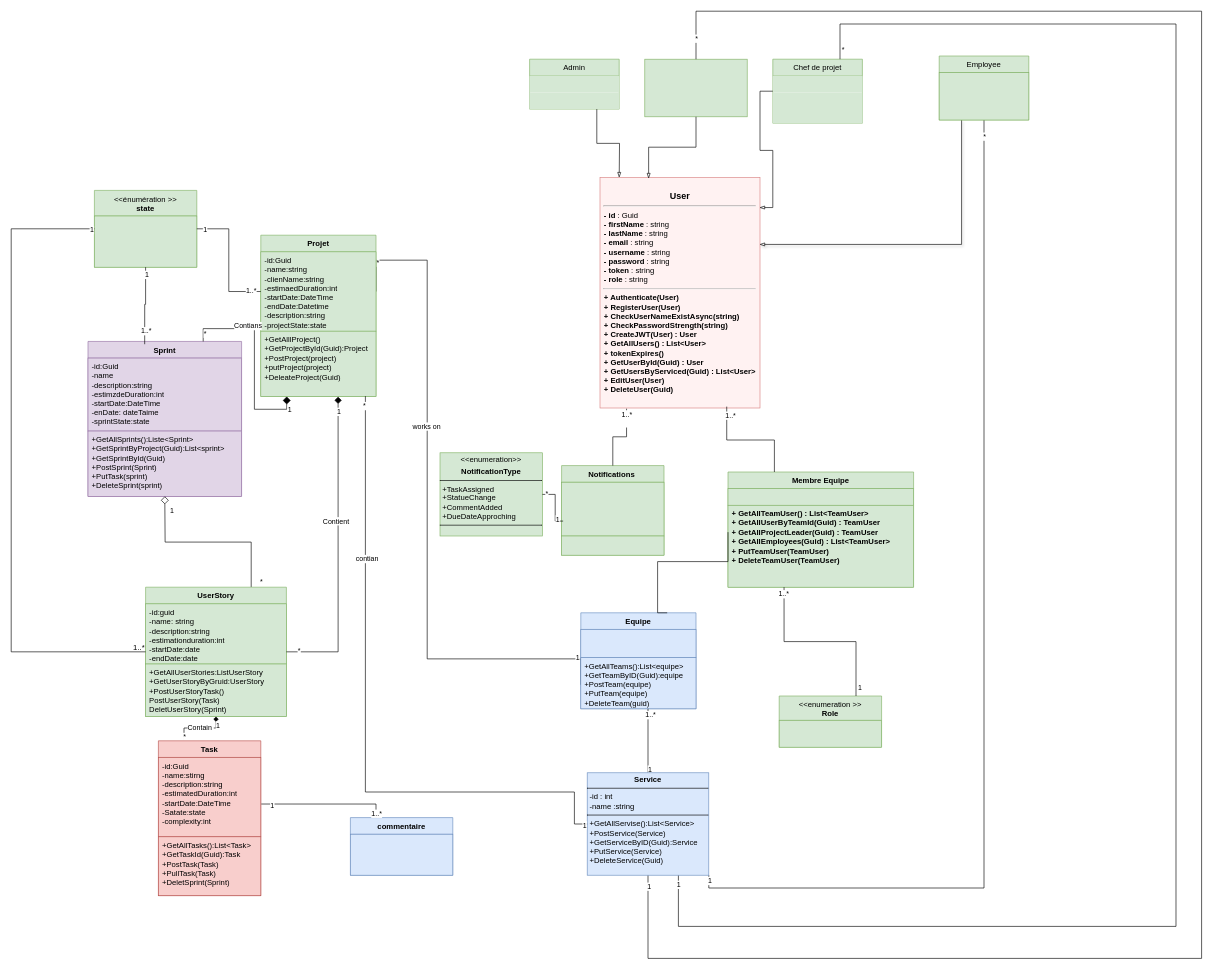
The diagram is 1213 pixels wide and 970 high, and some of its shapes have lost their labels. Here are the shapes that lost their labels. From the top down, the centre of each, then its label:
(695,88): Responsable du service
(145,241): +pending +toDo +inProgress +done +validated
(612,509): +id +title +Message +Type +IsRead
(820,496): - role :
(612,545): +MarkAsRead()
(638,643): - id : Guid - name : string
(830,733): -employee -projectleader
(401,854): +ID +Content +CreateAt +UpdateAt
